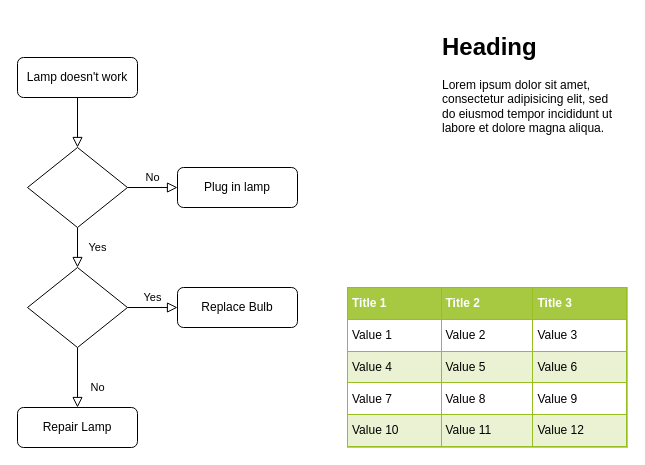
The diagram is 645 pixels wide and 465 high, and some of its shapes have lost their labels. Each missing label, with the box of its shape:
Bulb burned out?: (26, 266, 128, 348)
Lamp plugged in?: (26, 146, 128, 228)
